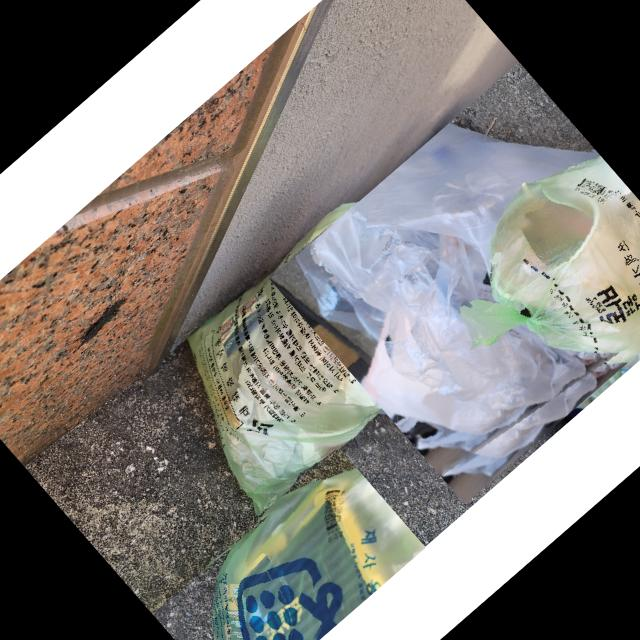general_trashbag: (187, 201, 506, 518), (210, 468, 424, 640)
other_trashbag: (316, 125, 597, 441)
